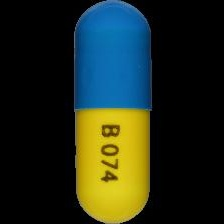63629-2952: (0, 0, 224, 224)
